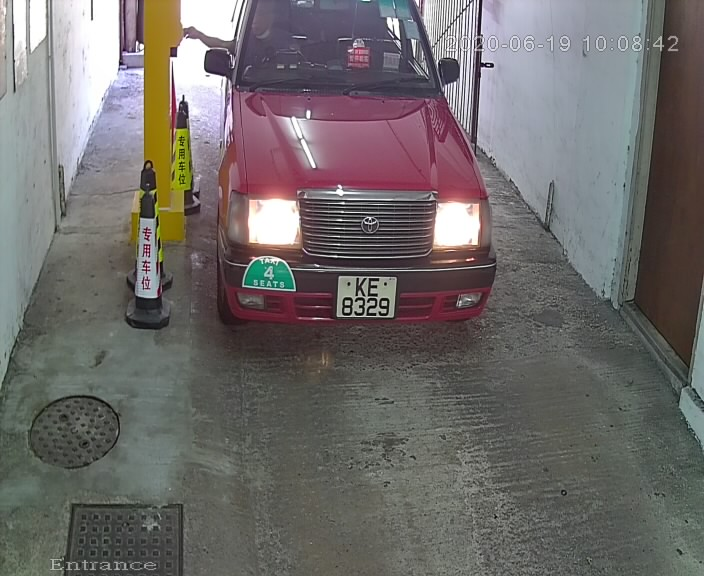taxi: (190, 2, 513, 365)
taxi_mark: (244, 252, 304, 300)
